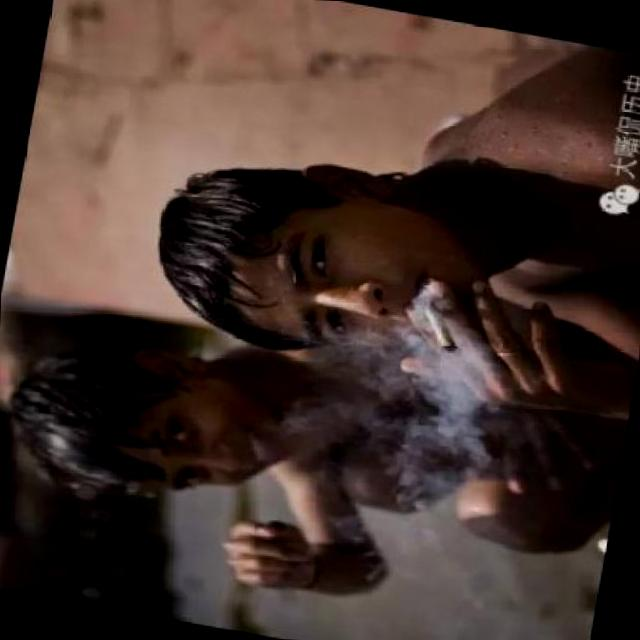smoke: (412, 290, 465, 352)
